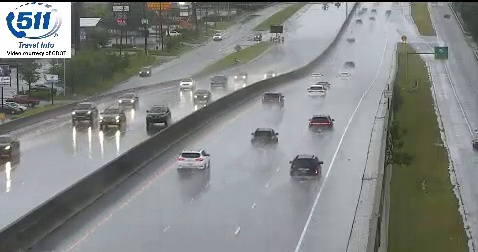car: (290, 155, 322, 180), (177, 149, 208, 170), (251, 128, 278, 147), (308, 115, 332, 132), (261, 92, 283, 107), (307, 85, 326, 98)
